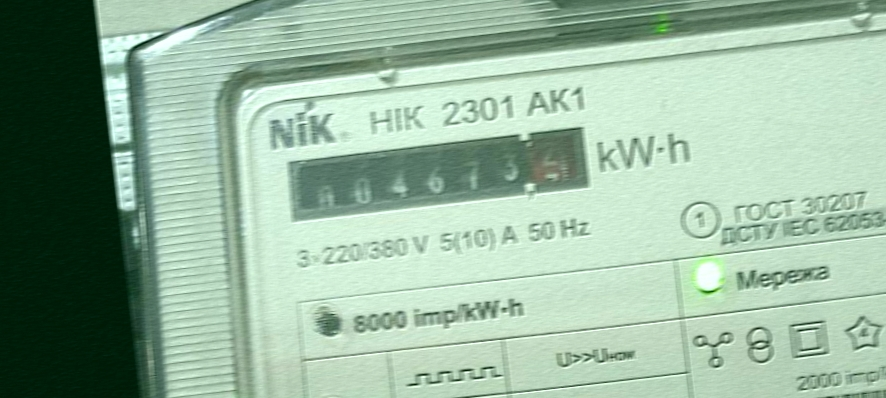0: (315, 182, 338, 214), (352, 176, 374, 209)
2: (538, 138, 562, 172)
3: (500, 152, 521, 188)
4: (389, 168, 411, 204)
6: (423, 163, 448, 200)
7: (461, 159, 487, 198)
screen: (281, 123, 597, 235)
